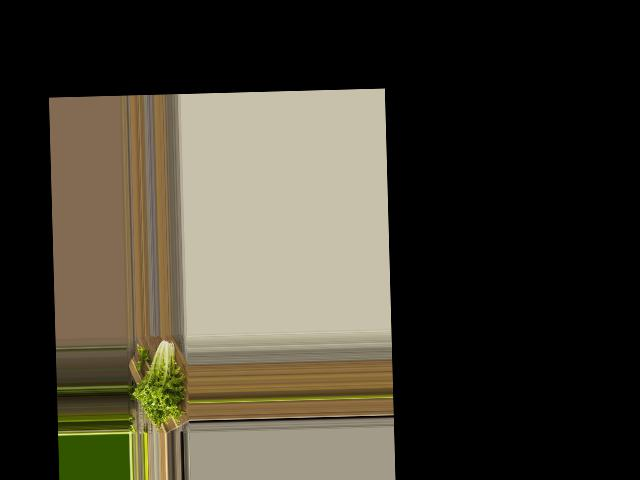lettuce: (132, 335, 186, 425)
